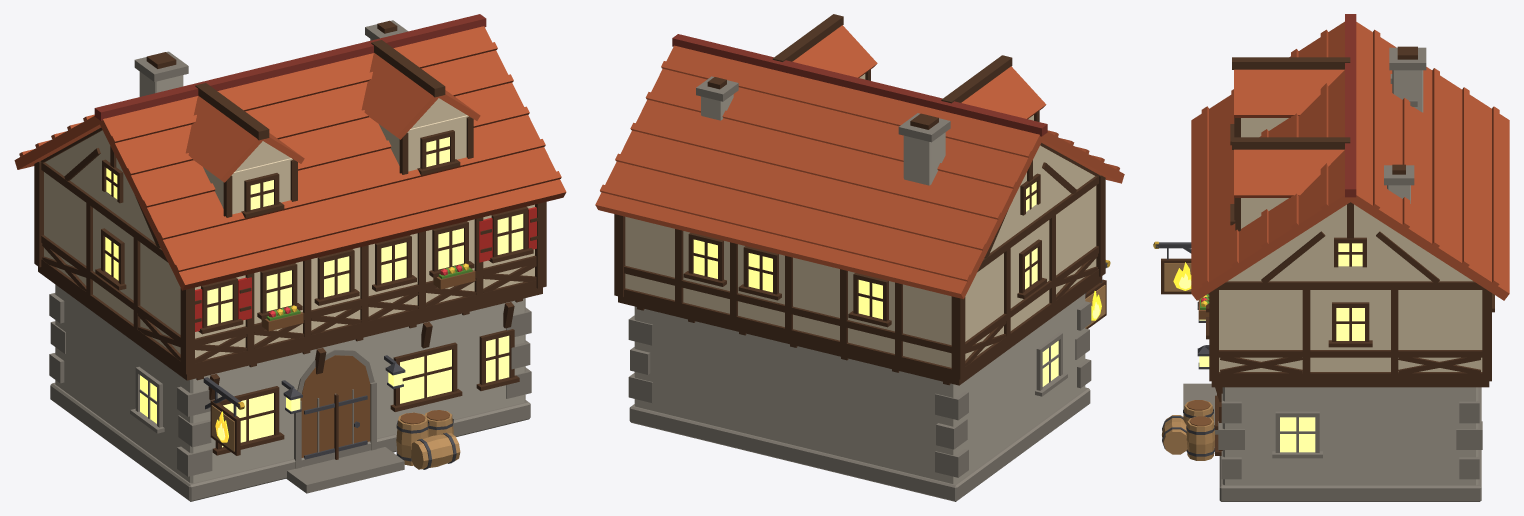
The model's file is Taverne.fbx.
3 views of the same model, side by side, from view 1: azimuth 30°, elevation 25°; view 2: azimuth 150°, elevation 25°; view 3: azimuth 270°, elevation 25° (orthographic). The views are drawn at different scales.
Parts seen in each view (by area): view 1: Taverne; view 2: Taverne; view 3: Taverne.
Part boxes in pixels (x1=…): Taverne: x1=14, y1=14, x2=566, y2=501; Taverne: x1=595, y1=14, x2=1124, y2=501; Taverne: x1=1153, y1=14, x2=1509, y2=501.
Size of the model in its own units: 9.42 by 8.25 by 8.09.
